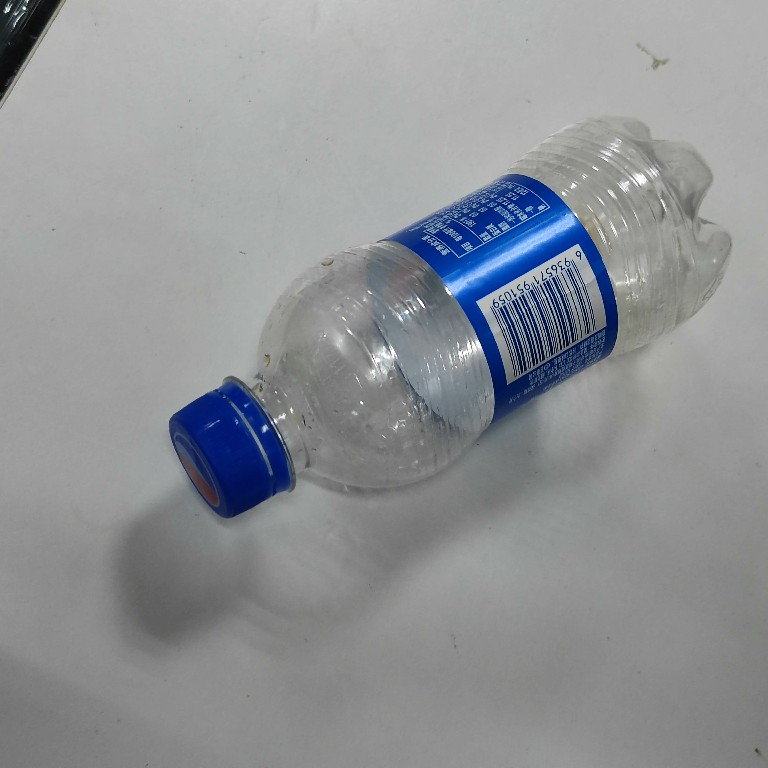bottle: (162, 105, 740, 528)
